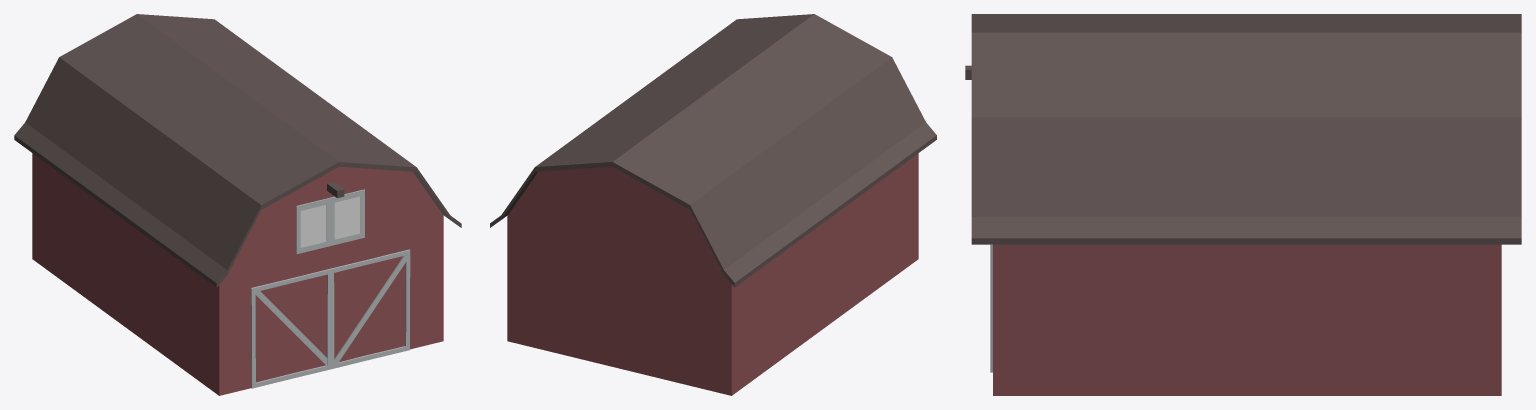
Rendered from barn.fbx.
3 renders of one model, left to right at view 1: azimuth 30°, elevation 25°; view 2: azimuth 150°, elevation 25°; view 3: azimuth 270°, elevation 25°, orthographic. The views are drawn at different scales.
Visible parts, largest first — view 1: Cube, Cube.001, Plane, Cube.002, Cube.003, Cube.007, Cube.008, Cube.005, Cube.004; view 2: Cube.001, Cube; view 3: Cube, Cube.001.
Boxes of the visible parts, x1,y1,x2,y2 form: Cube: [14, 14, 461, 287]; Cube.001: [32, 153, 443, 395]; Plane: [300, 196, 360, 247]; Cube.002: [251, 268, 331, 388]; Cube.003: [330, 249, 410, 369]; Cube.007: [296, 198, 330, 254]; Cube.008: [330, 189, 364, 245]; Cube.005: [334, 255, 406, 363]; Cube.004: [255, 291, 327, 365]; Cube.001: [507, 153, 918, 395]; Cube: [490, 14, 936, 287]; Cube: [971, 14, 1521, 244]; Cube.001: [993, 244, 1501, 395].
Bounding box in the file's own units: 306 × 254 × 443.
